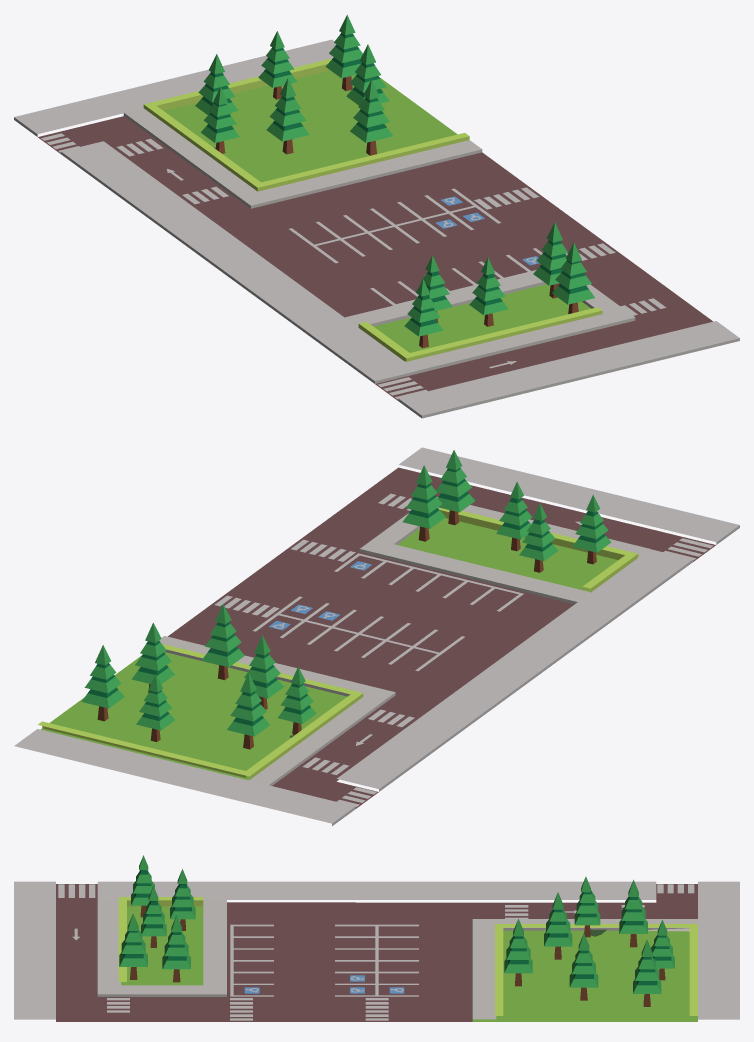
File: parking_lvl_3.FBX
The picture shows the model from 3 angles, top to bottom: view 1: azimuth 30°, elevation 25°; view 2: azimuth 150°, elevation 25°; view 3: azimuth 270°, elevation 25°; orthographic projection. The views are drawn at different scales.
Parts seen in each view (by area): view 1: parking_lvl_3; view 2: parking_lvl_3; view 3: parking_lvl_3.
Boxes of the visible parts, x1,y1,x2,y2 form: parking_lvl_3: (14,15,739,418); parking_lvl_3: (14,447,739,826); parking_lvl_3: (14,855,739,1021).
Bounding box in the file's own units: 5850 × 1436 × 13000.
